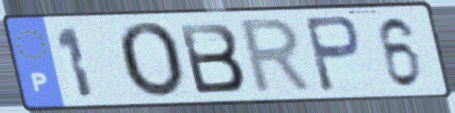1: (55, 25, 98, 100)
6: (376, 15, 427, 89)
B: (175, 20, 248, 96)
O: (115, 20, 188, 101)
P: (300, 13, 365, 95)
R: (238, 15, 318, 98)
